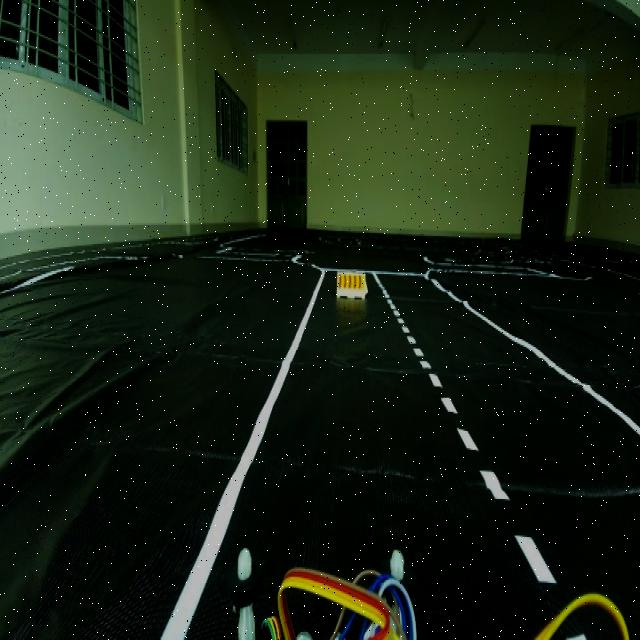roadblock: (329, 253, 371, 309)
